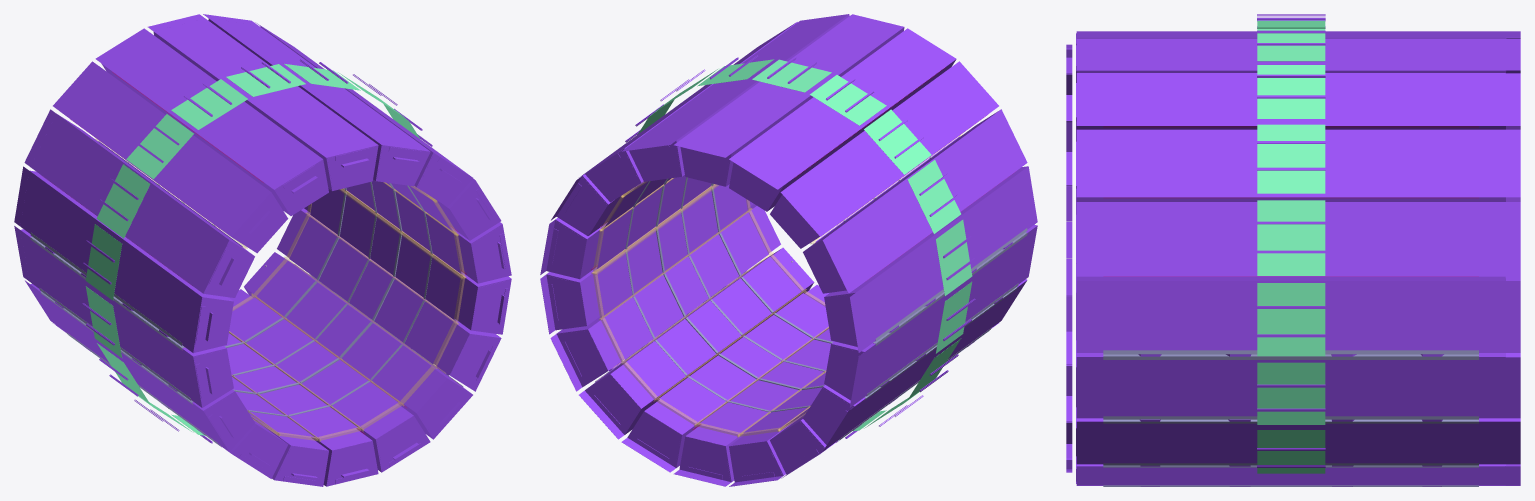
Rendered from alice_masterclass_slim.glb.
The picture shows the model from 3 angles, left to right: view 1: azimuth 30°, elevation 25°; view 2: azimuth 150°, elevation 25°; view 3: azimuth 270°, elevation 25°; orthographic projection. The views are drawn at different scales.
Parts seen in each view (by area): view 1: UTS1_1.017, UTS1_1.015, UTS1_1.013, UTS1_1.019, UTS1_1.011, UTS1_1.021, UTS1_1.009, UTS1_1.023, UTS3_1.005, UTS1_1.001, FFC1_0.017, FFC1_0.019 (+59 smaller); view 2: UTS1_1.017, UTS1_1.015, UTS1_1.013, UTS1_1.019, UTS1_1.011, UTS1_1.021, UTS1_1.009, UTS1_1.023, UTS3_1.005, UTS1_1.001, FFC1_0.017, FFC1_0.019 (+59 smaller); view 3: UTS1_1.003, UTS1_1.005, UTS1_1.007, UTS4_1.001, UTS1_1.009, UTS1_1.001, UTS1_1.011, UTS3_1.005, FFC1_0.007, FFC1_0.005, FFC1_0.009, FFC1_0.003 (+23 smaller).
Boxes of the visible parts, x1=… form: UTS1_1.017: x1=30, y1=113, x2=254, y2=297; UTS1_1.015: x1=59, y1=66, x2=288, y2=253; UTS1_1.013: x1=101, y1=32, x2=328, y2=215; UTS1_1.019: x1=20, y1=170, x2=233, y2=352; UTS1_1.011: x1=153, y1=18, x2=378, y2=191; UTS1_1.021: x1=20, y1=229, x2=233, y2=407; UTS1_1.009: x1=208, y1=18, x2=430, y2=186; UTS1_1.023: x1=30, y1=283, x2=254, y2=451; UTS3_1.005: x1=244, y1=252, x2=472, y2=439; UTS1_1.001: x1=277, y1=208, x2=501, y2=391; FFC1_0.017: x1=126, y1=114, x2=193, y2=179; FFC1_0.019: x1=96, y1=164, x2=150, y2=238; UTS1_1.017: x1=803, y1=109, x2=1027, y2=293; UTS1_1.015: x1=770, y1=61, x2=998, y2=248; UTS1_1.013: x1=729, y1=28, x2=956, y2=211; UTS1_1.019: x1=824, y1=166, x2=1037, y2=348; UTS1_1.011: x1=679, y1=14, x2=904, y2=186; UTS1_1.021: x1=824, y1=224, x2=1037, y2=402; UTS1_1.009: x1=627, y1=14, x2=849, y2=181; UTS1_1.023: x1=803, y1=279, x2=1027, y2=446; UTS3_1.005: x1=585, y1=247, x2=814, y2=434; UTS1_1.001: x1=556, y1=204, x2=780, y2=387; FFC1_0.017: x1=864, y1=109, x2=931, y2=174; FFC1_0.019: x1=907, y1=160, x2=960, y2=233; UTS1_1.003: x1=1076, y1=276, x2=1505, y2=352; UTS1_1.005: x1=1076, y1=202, x2=1505, y2=276; UTS1_1.007: x1=1076, y1=129, x2=1505, y2=201; UTS4_1.001: x1=1076, y1=353, x2=1505, y2=418; UTS1_1.009: x1=1076, y1=73, x2=1505, y2=129; UTS1_1.001: x1=1076, y1=418, x2=1505, y2=464; UTS1_1.011: x1=1076, y1=39, x2=1505, y2=72; UTS3_1.005: x1=1076, y1=464, x2=1505, y2=485; FFC1_0.007: x1=1257, y1=200, x2=1325, y2=275; FFC1_0.005: x1=1257, y1=283, x2=1325, y2=356; FFC1_0.009: x1=1257, y1=124, x2=1325, y2=193; FFC1_0.003: x1=1257, y1=362, x2=1325, y2=424.
Bounding box in the file's own units: 796 × 784 × 744.
